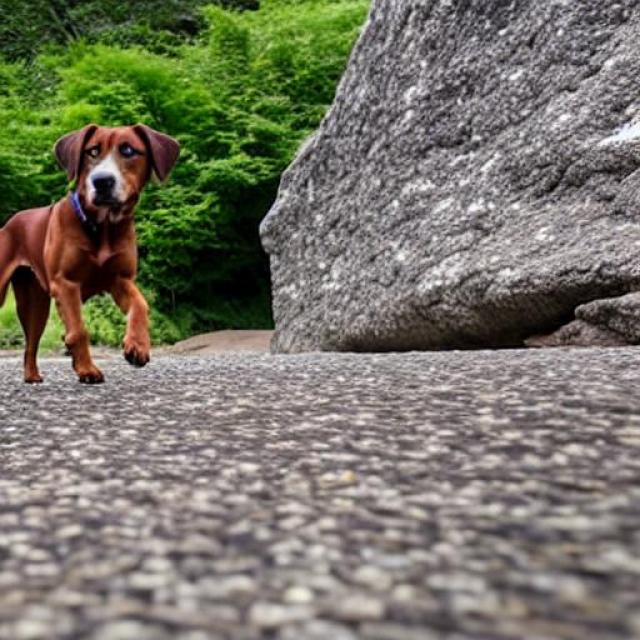Dog: (0, 123, 180, 384)
